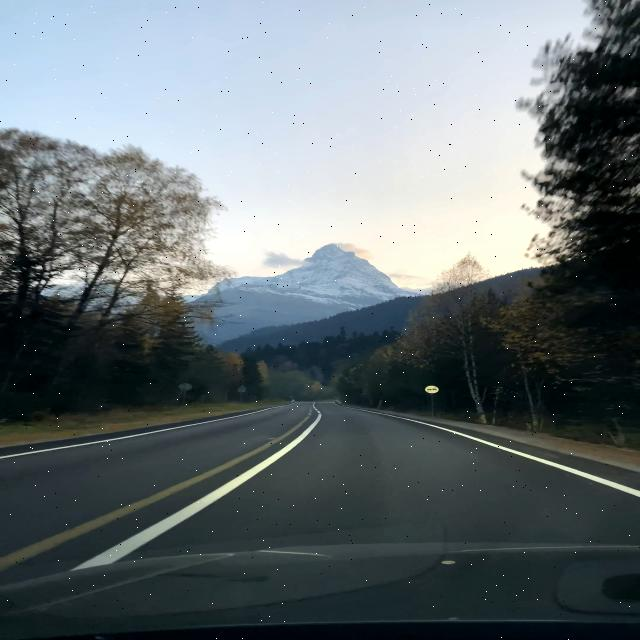lane: (0, 418, 307, 571), (73, 410, 322, 570), (356, 409, 640, 496)
road: (0, 403, 639, 638)
